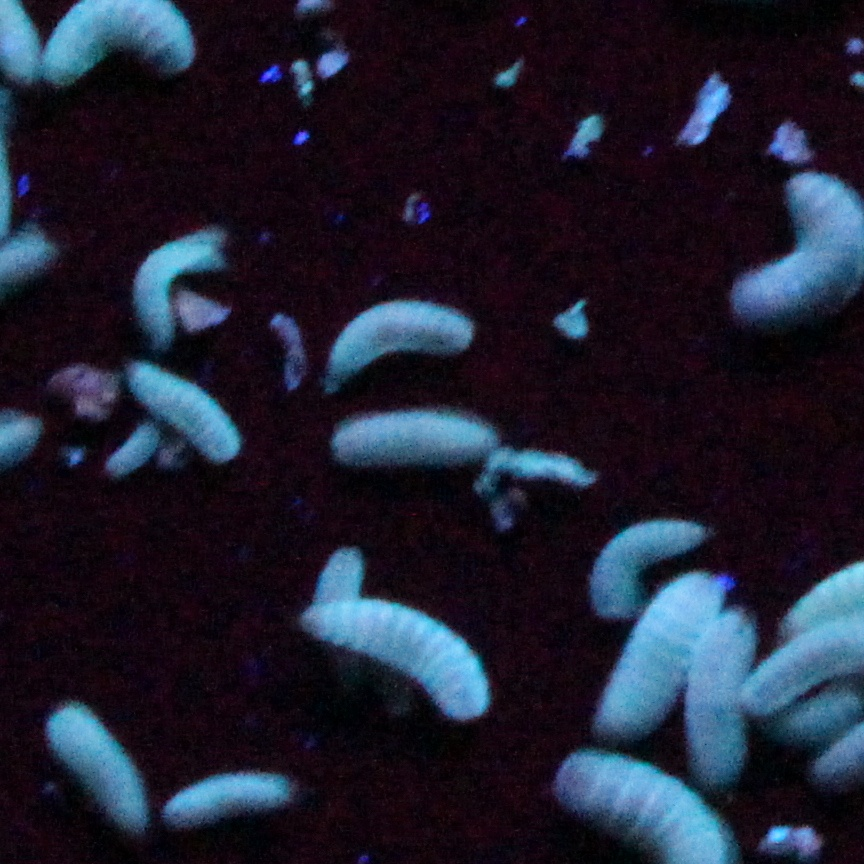larve: (305, 590, 487, 716), (602, 576, 726, 733), (736, 177, 864, 319), (40, 700, 152, 838), (321, 295, 473, 390), (594, 520, 706, 615), (687, 610, 747, 778), (125, 357, 235, 444), (338, 412, 495, 472), (141, 218, 211, 339), (165, 784, 294, 822), (111, 424, 156, 476)
